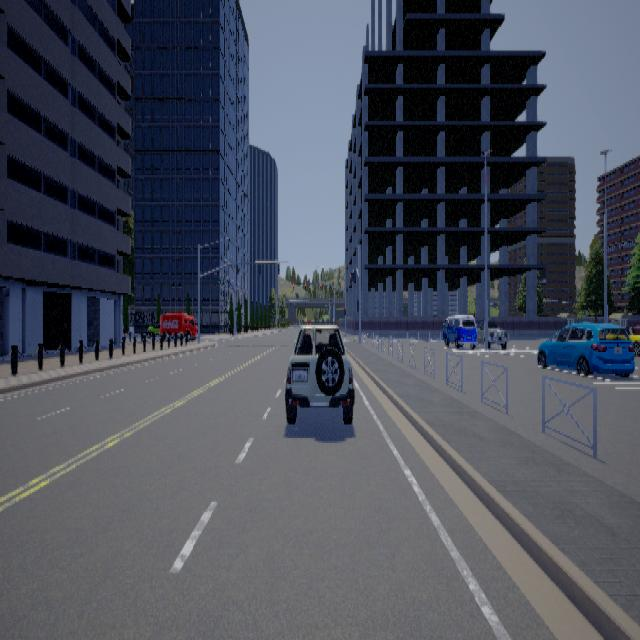vehicle: (284, 316, 354, 422), (536, 320, 639, 376), (442, 313, 484, 349), (156, 312, 200, 338), (487, 316, 508, 348)
